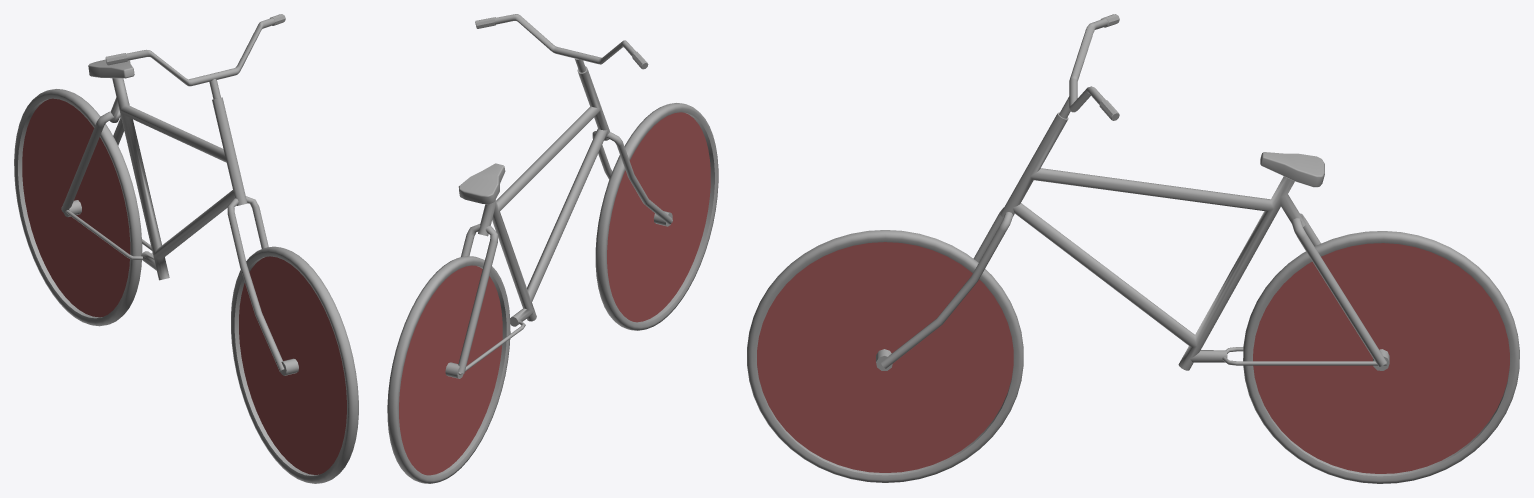
The model's file is Bike.fbx.
The picture shows the model from 3 angles, left to right: view 1: azimuth 30°, elevation 25°; view 2: azimuth 150°, elevation 25°; view 3: azimuth 270°, elevation 25°; orthographic projection. The views are drawn at different scales.
Visible parts, largest first — view 1: Bike; view 2: Bike; view 3: Bike.
Boxes of the visible parts, bbox=[...] form: Bike: bbox=[14, 14, 358, 483]; Bike: bbox=[387, 14, 718, 483]; Bike: bbox=[747, 14, 1519, 483].
Bounding box in the file's own units: 70.72 × 141 × 231.
